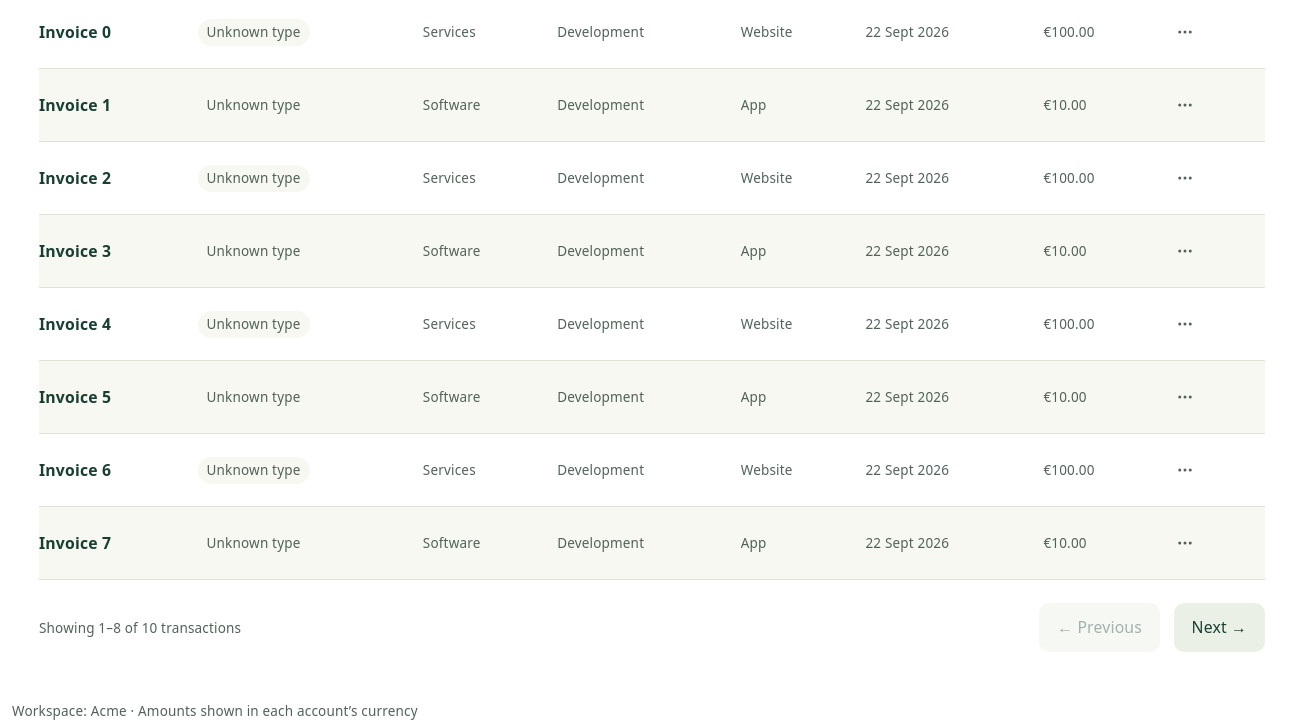
Test: paginates and combines business transaction filters
The image size is (1292, 720).
(page scrolled)
Step 1. Click the button "Next →" → {"x": 1219, "y": 628}, box 1174,603 -> 1265,652
(page scrolled)
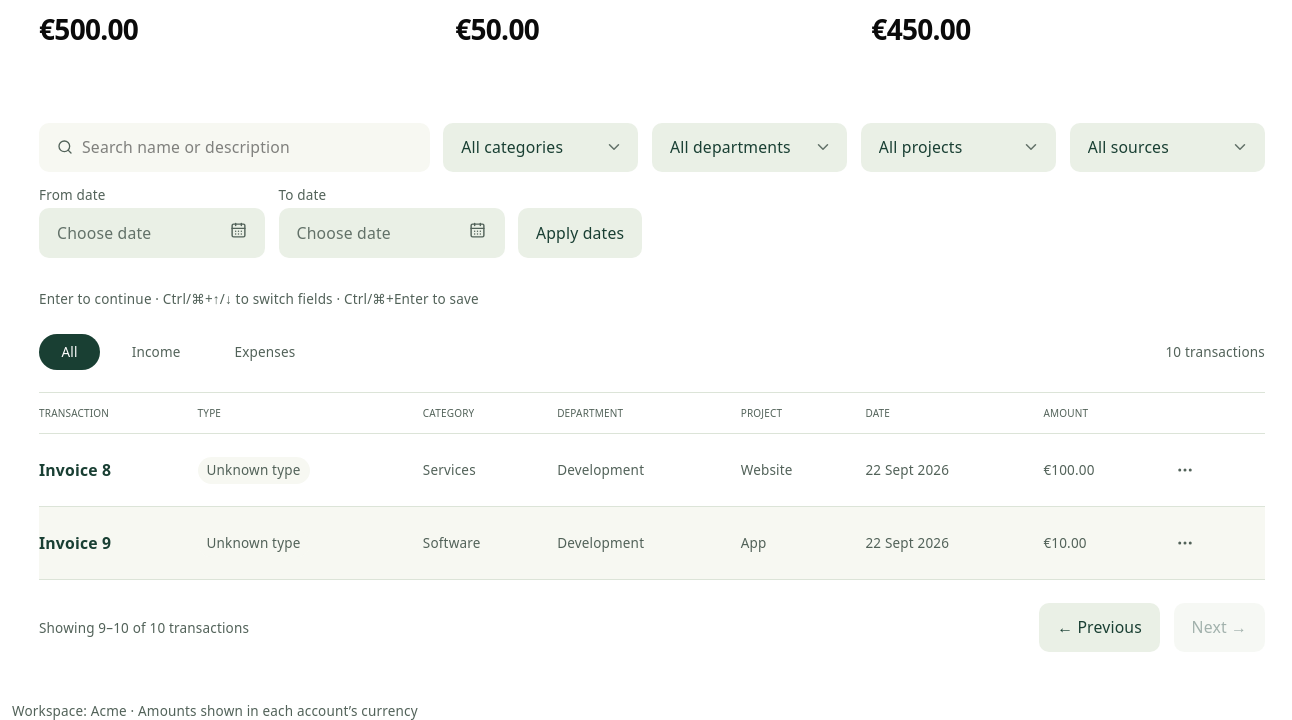
Expected: the number of rows is 3, 39,393 -> 1265,434; 39,434 -> 1265,507; 39,507 -> 1265,580
Step 2. Select "Services" in the dropdown named "Filter by category" → {"x": 541, "y": 147}, box 443,123 -> 638,172
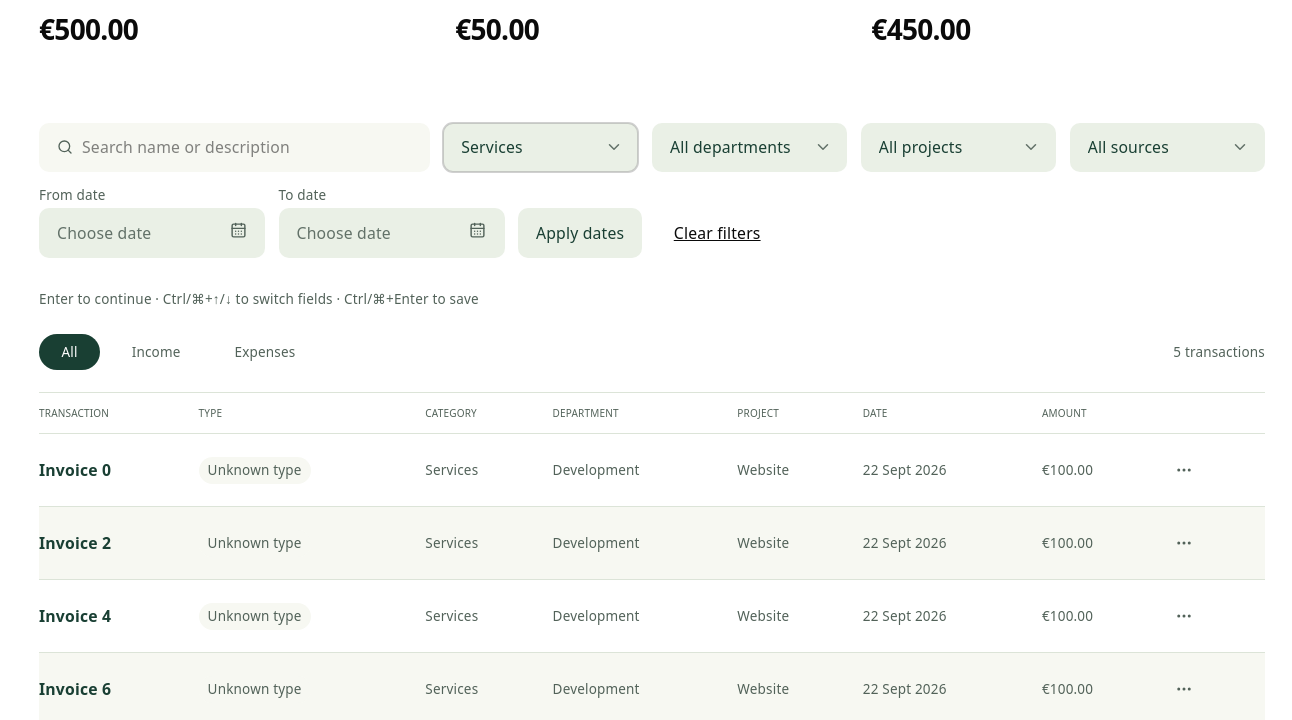
Step 3. Click the button "Expenses" → {"x": 265, "y": 352}, box 212,334 -> 318,370
(page scrolled)
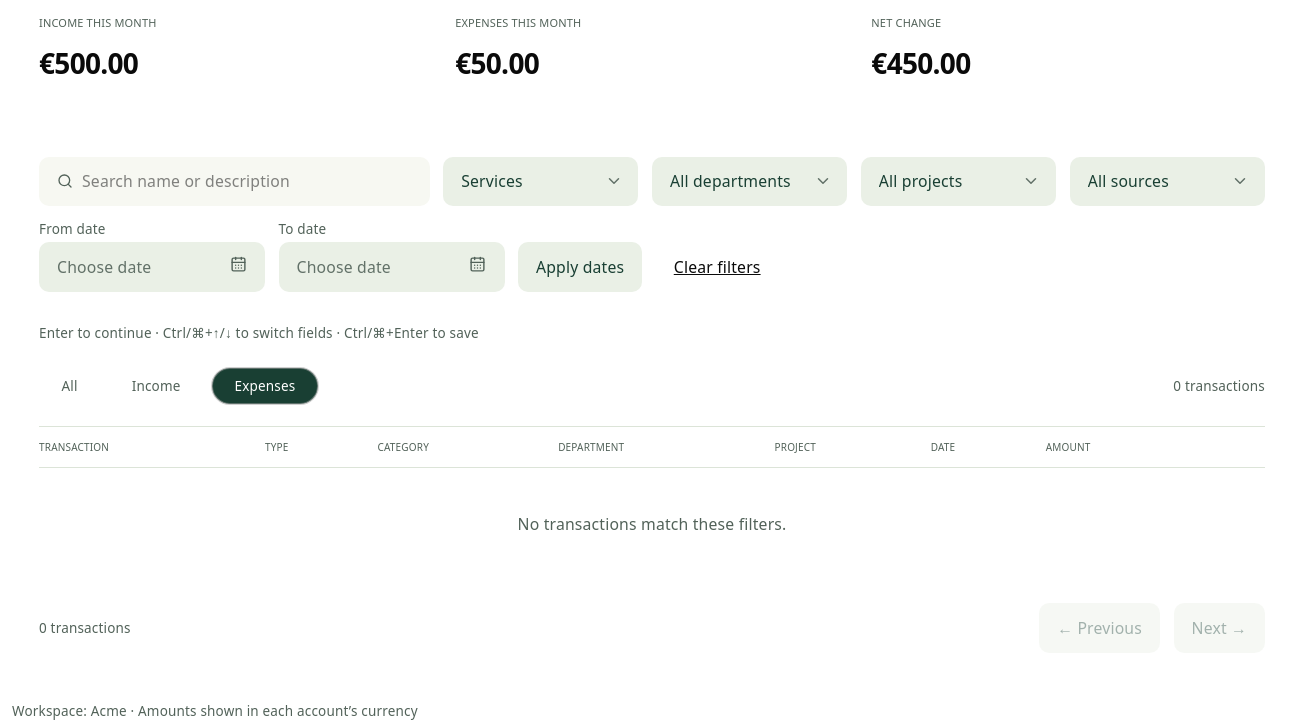
Now the text "No transactions match these filters." is shown, box 518,513 -> 786,535
